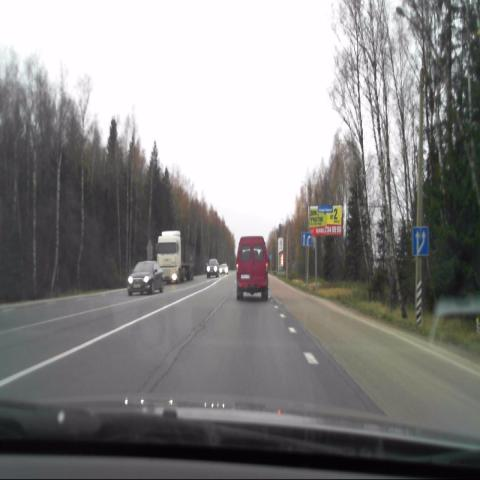5_15_2_2: (300, 231, 312, 246)
5_15_3: (411, 225, 430, 258)
